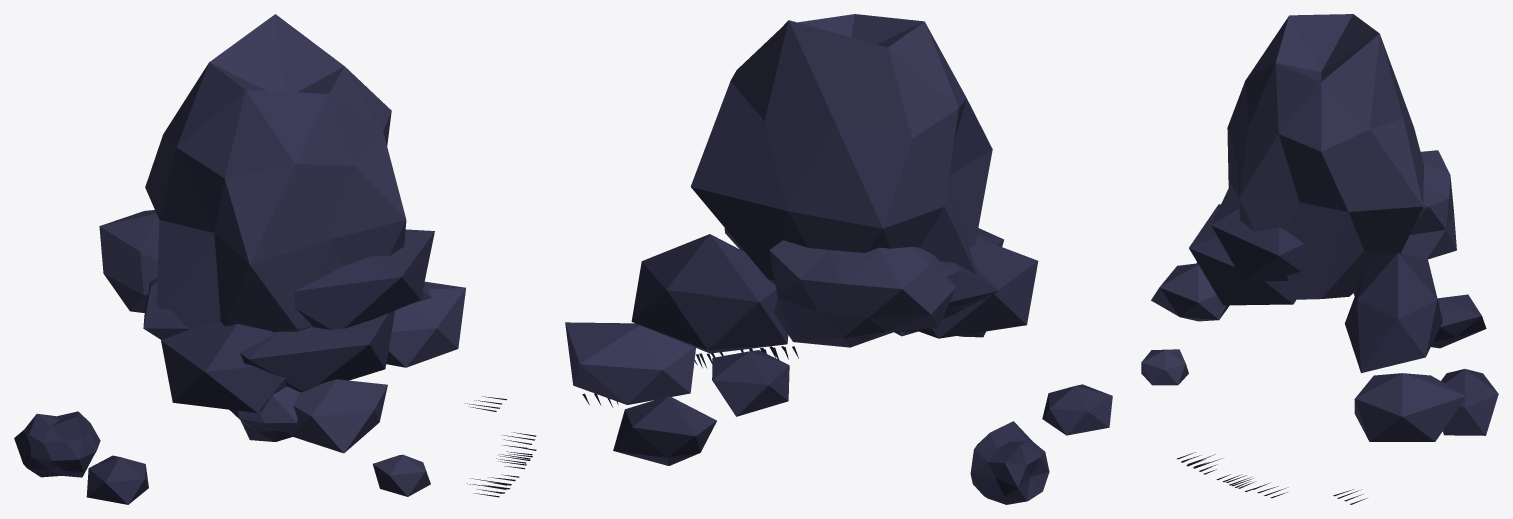
File: rubble_half.glb
3 views of the same model, side by side, from view 1: azimuth 30°, elevation 25°; view 2: azimuth 150°, elevation 25°; view 3: azimuth 270°, elevation 25° (orthographic). The views are drawn at different scales.
Parts seen in each view (by area): view 1: rubble_half.001; view 2: rubble_half.001; view 3: rubble_half.001.
Boxes of the visible parts, x1,y1,x2,y2 form: rubble_half.001: [14, 14, 536, 504]; rubble_half.001: [565, 14, 1112, 504]; rubble_half.001: [1141, 14, 1498, 504].
Size of the model in its own units: 4 by 3.5 by 3.
